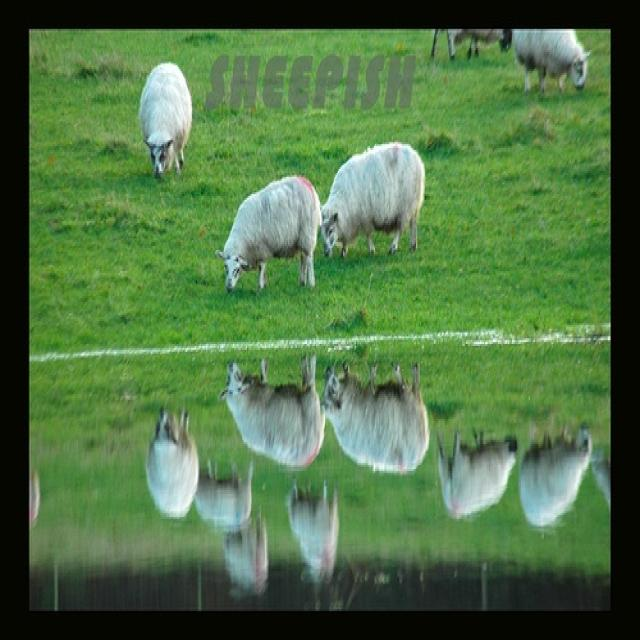sheep: (326, 354, 439, 476), (318, 134, 428, 256), (222, 167, 322, 300), (219, 359, 326, 476), (516, 423, 596, 530), (434, 419, 517, 521), (136, 58, 197, 190), (146, 403, 200, 522), (513, 29, 593, 100)
